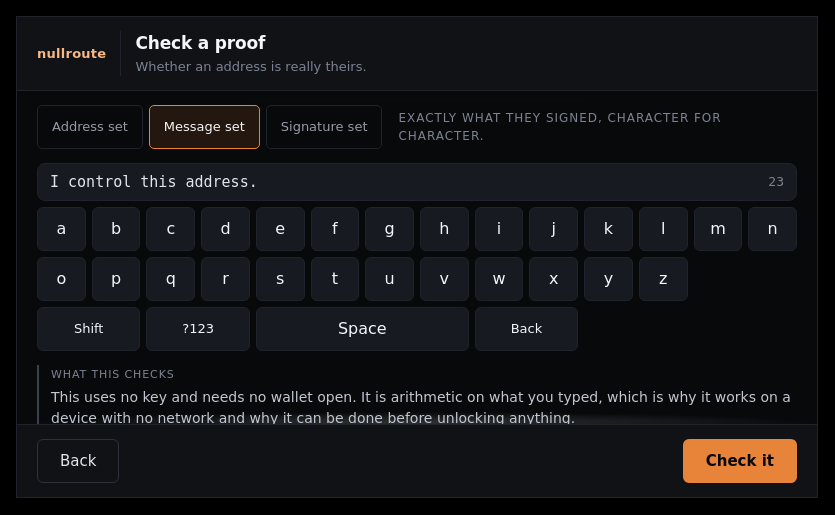
Test: VerifyMessageScreen › shows-what-was-checked-rather-than-a-keyboard
This screenshot has width=835, height=515.
Click the button with test id "verify-run" at [740, 461], box 683,439 -> 797,483
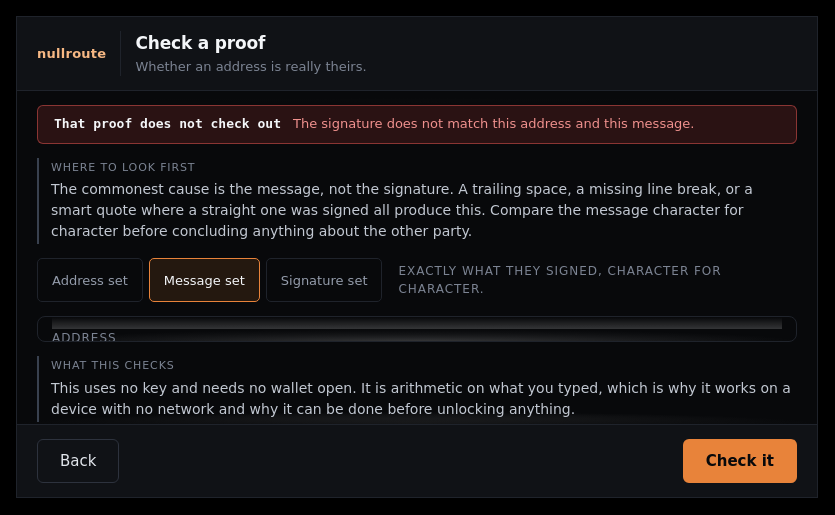
Now the element with test id "verify-result" is shown, box 37,105 -> 797,144
